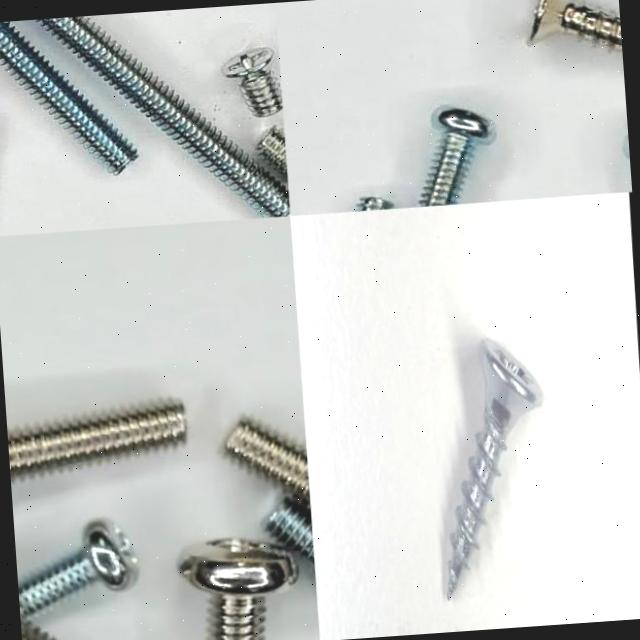Screw: (36, 16, 290, 217), (446, 340, 543, 601), (0, 21, 136, 174), (7, 404, 184, 479), (178, 538, 297, 640), (18, 522, 136, 615), (225, 421, 310, 509), (415, 108, 487, 207), (529, 0, 622, 47), (222, 49, 282, 116), (267, 500, 314, 564), (257, 127, 287, 175)
